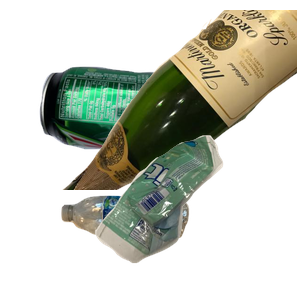glass: (60, 10, 300, 190)
metal: (37, 64, 245, 214)
plastic: (59, 193, 241, 300)
trash: (92, 133, 300, 300)
